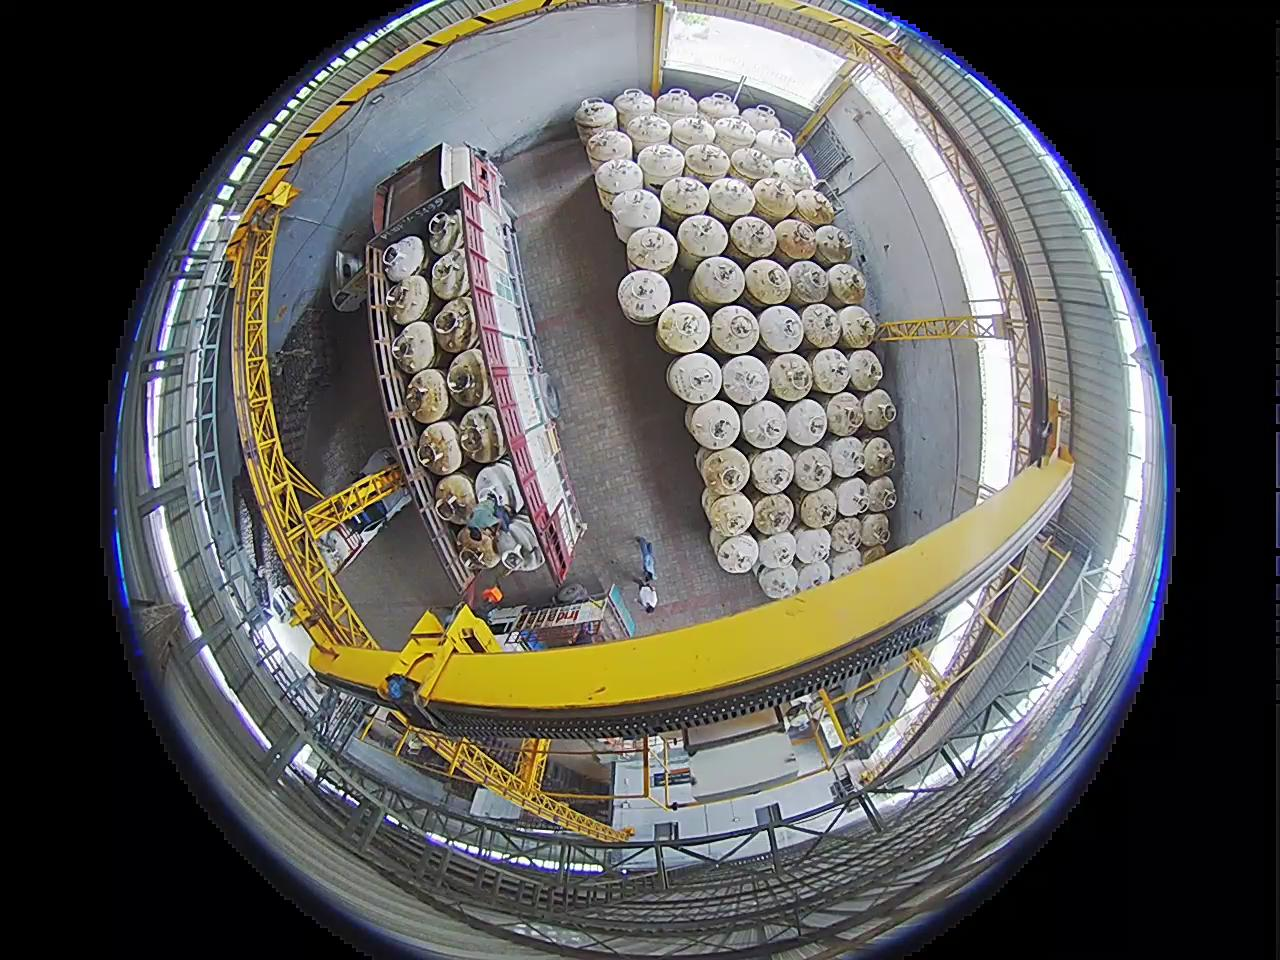cylinder: (617, 269, 672, 324), (666, 352, 722, 404), (690, 255, 745, 308), (687, 398, 741, 451), (656, 301, 710, 352), (459, 404, 505, 463), (710, 304, 762, 355), (446, 348, 492, 406), (495, 518, 544, 572), (720, 354, 770, 405), (404, 368, 452, 423), (676, 214, 729, 262), (474, 461, 522, 513), (741, 399, 790, 450), (433, 296, 478, 352), (744, 258, 794, 307), (700, 447, 751, 495), (612, 190, 659, 241), (416, 421, 464, 472), (391, 321, 435, 375), (625, 226, 675, 273), (385, 274, 430, 327), (758, 305, 806, 353), (749, 446, 796, 494), (595, 155, 644, 202), (659, 175, 710, 221), (707, 175, 756, 221), (428, 247, 470, 301), (637, 141, 685, 187), (768, 354, 814, 400), (433, 473, 478, 521), (729, 215, 777, 258), (381, 236, 425, 282), (790, 446, 835, 492), (707, 493, 754, 536), (785, 398, 828, 445), (585, 126, 631, 169), (669, 114, 717, 156), (682, 142, 731, 184), (624, 112, 672, 153), (786, 260, 830, 305), (573, 97, 617, 142), (751, 176, 797, 219), (810, 348, 853, 393), (799, 304, 842, 348), (775, 219, 820, 260), (752, 493, 795, 535), (824, 391, 866, 436), (826, 262, 868, 306), (716, 533, 760, 574), (837, 305, 877, 349), (826, 435, 867, 479), (655, 87, 699, 127), (798, 488, 840, 530), (731, 144, 776, 183), (712, 116, 757, 154), (813, 226, 854, 267), (612, 89, 653, 129), (847, 348, 885, 391), (428, 210, 465, 255), (793, 188, 836, 226), (792, 526, 833, 566), (756, 531, 797, 570), (833, 476, 871, 517), (312, 529, 350, 572), (753, 127, 796, 163), (861, 388, 898, 430), (770, 157, 811, 195), (862, 436, 897, 477), (360, 447, 401, 482), (757, 564, 797, 599), (696, 92, 738, 126), (864, 475, 898, 513), (740, 104, 780, 136), (829, 516, 864, 554), (859, 513, 892, 548), (795, 560, 830, 591), (472, 534, 502, 569), (335, 250, 363, 286), (829, 549, 863, 579), (684, 402, 711, 439), (710, 529, 738, 561), (385, 282, 408, 311), (861, 544, 888, 567), (435, 310, 460, 333), (417, 445, 438, 467), (384, 244, 402, 265)
truck: (365, 130, 565, 616), (497, 606, 632, 657), (329, 231, 366, 312), (359, 139, 412, 145)
